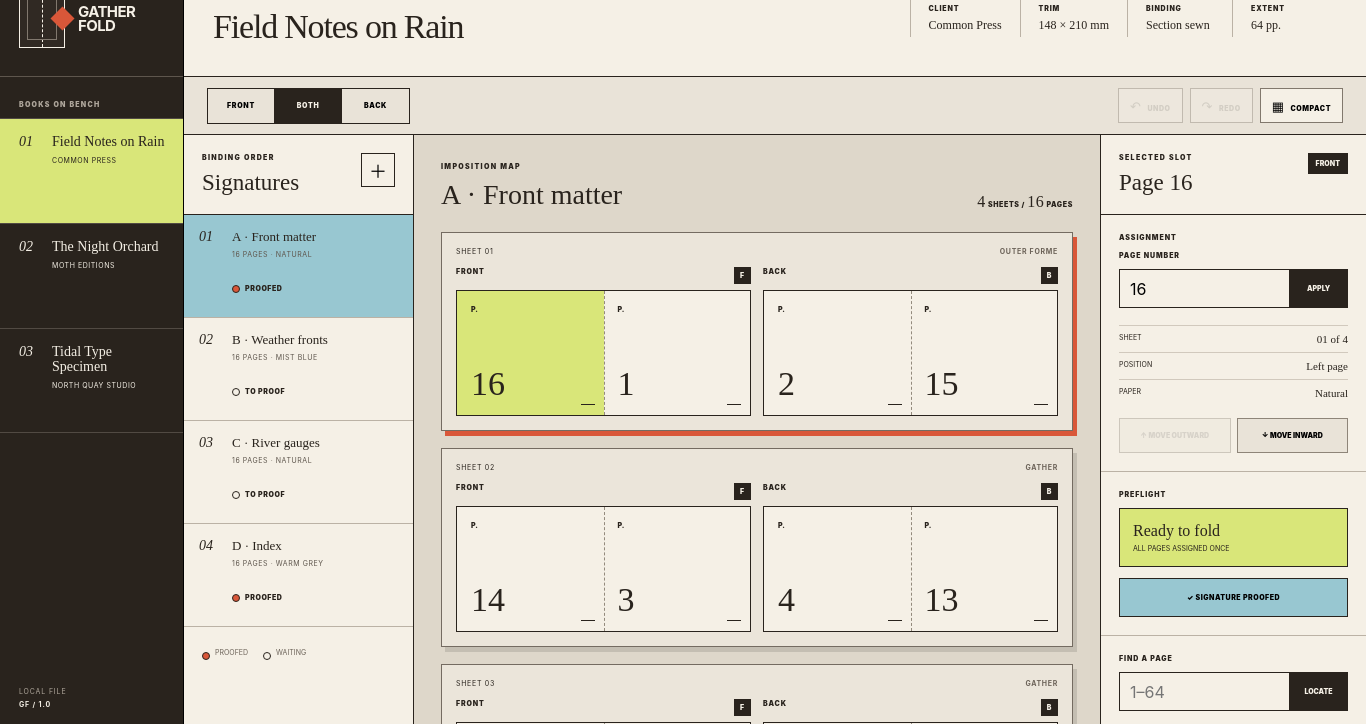
Test: Gatherfold workbench › toggles textual proof status for a signature
The image size is (1366, 724).
Click the button "✓ Signature proofed" at (1234, 598), box [1119,578,1348,617]
(page scrolled)
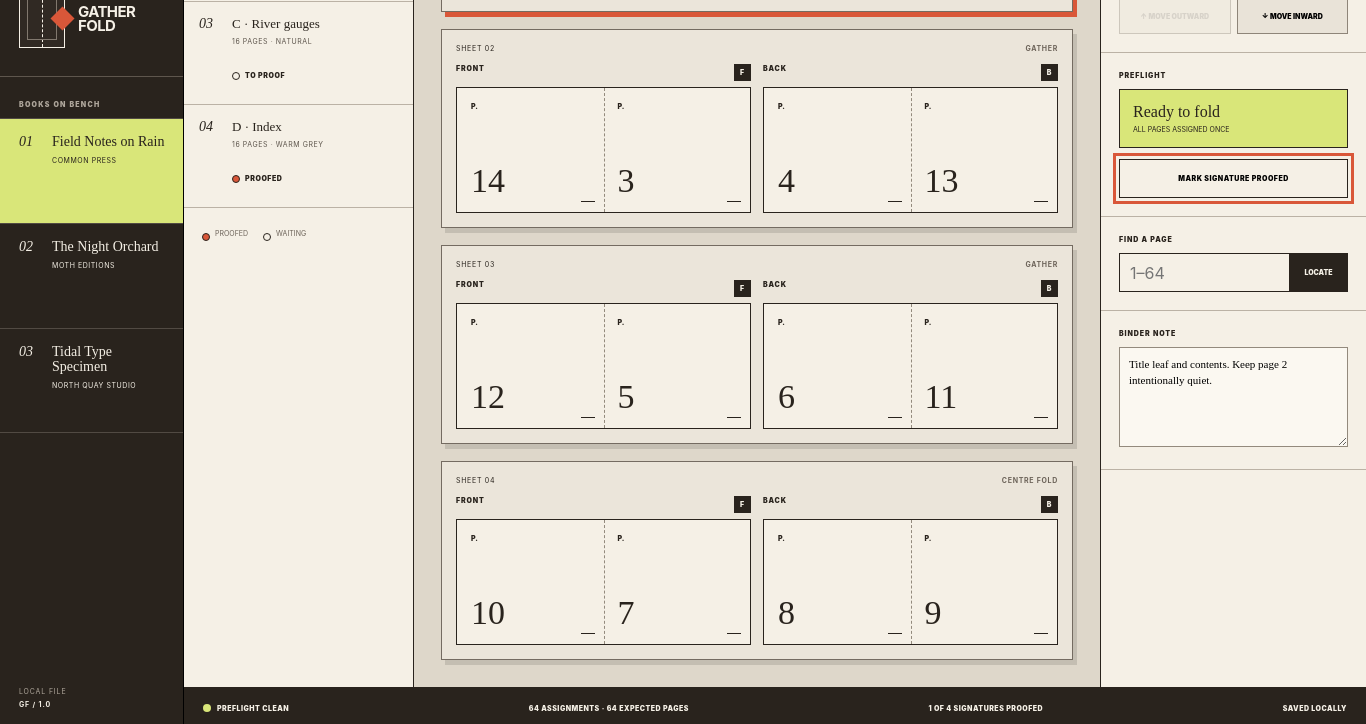
Expected: the button "Mark signature proofed" is shown, [1119,159,1348,198]
Expected: the text "1 of 4 signatures proofed" is shown, [928,704,1043,712]
